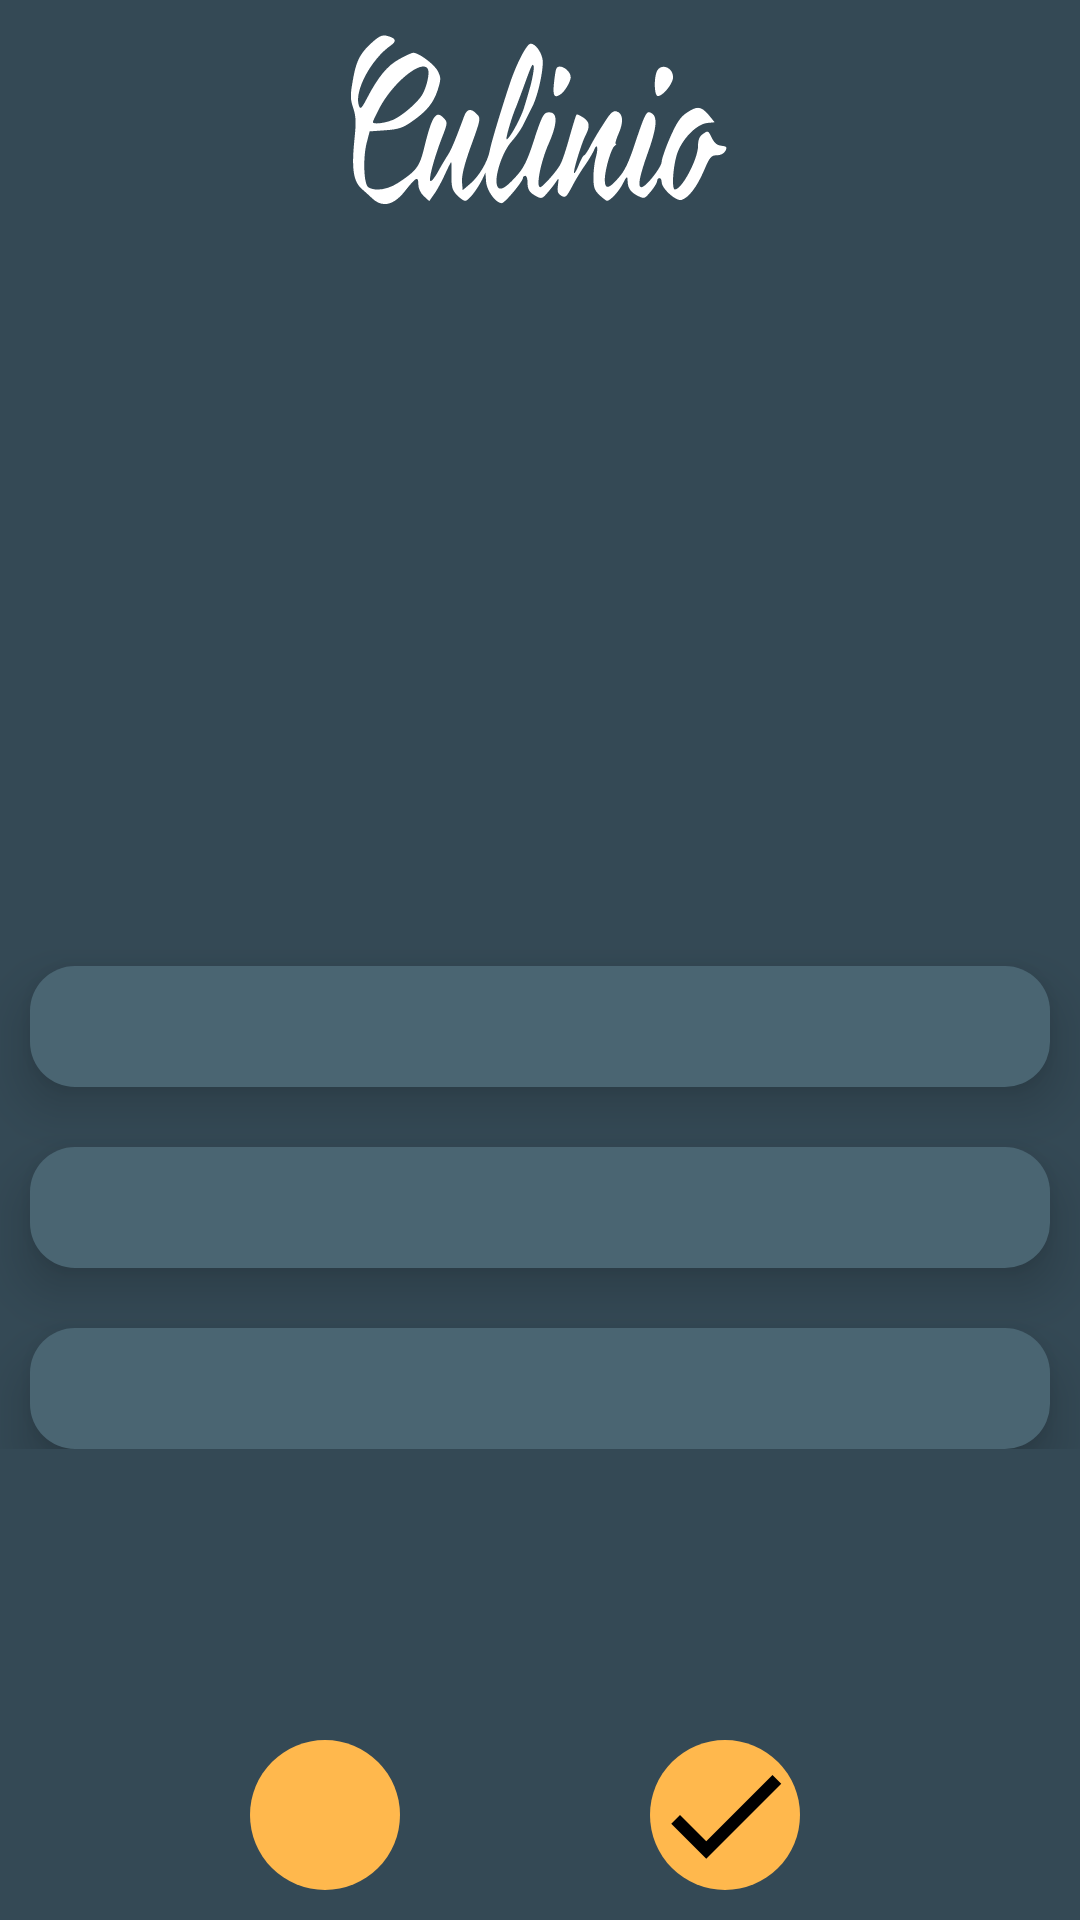

Icon bounding boxes for this 1080 x 1920 phone screenshot, format (x1, y1, x2, y2):
tick: (650, 1740, 800, 1890)
